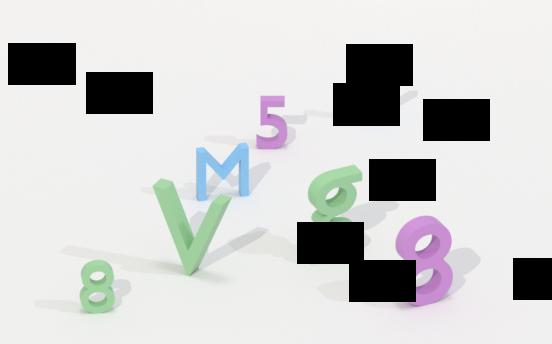5: (253, 92, 289, 152)
8: (391, 213, 457, 311), (77, 258, 118, 317)
M-hoa: (193, 141, 253, 205)
Y: (357, 67, 398, 128)
g: (302, 162, 367, 262)
v: (150, 172, 233, 278)
